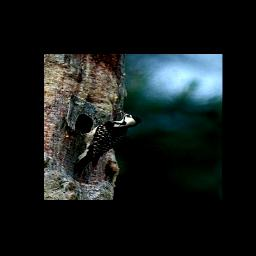Woodpecker: (75, 109, 142, 177)
